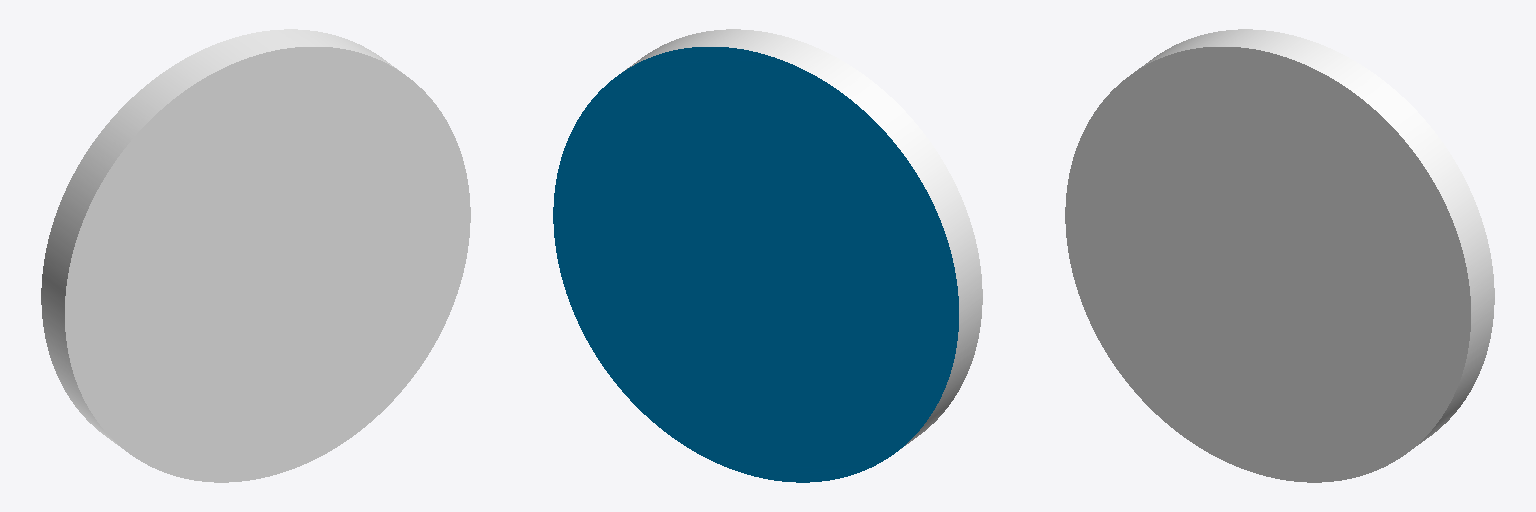
Rendered from plate.obj.
The picture shows the model from 3 angles: view 1: azimuth 30°, elevation 25°; view 2: azimuth 150°, elevation 25°; view 3: azimuth 330°, elevation 25°; orthographic projection.
Visible parts, largest first — view 1: Object.1; view 2: Object.1; view 3: Object.1.
Boxes of the visible parts, <box> form: Object.1: <box>41,29,470,482</box>; Object.1: <box>553,29,982,482</box>; Object.1: <box>1065,29,1494,482</box>.
Bounding box in the file's own units: 1 × 1 × 0.1.